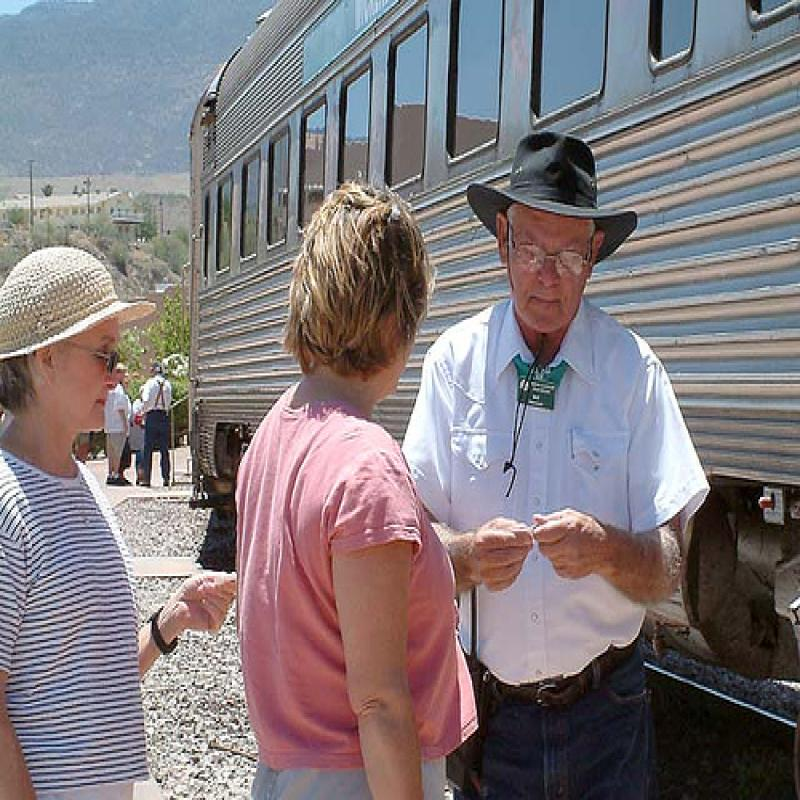train: (187, 1, 800, 686)
